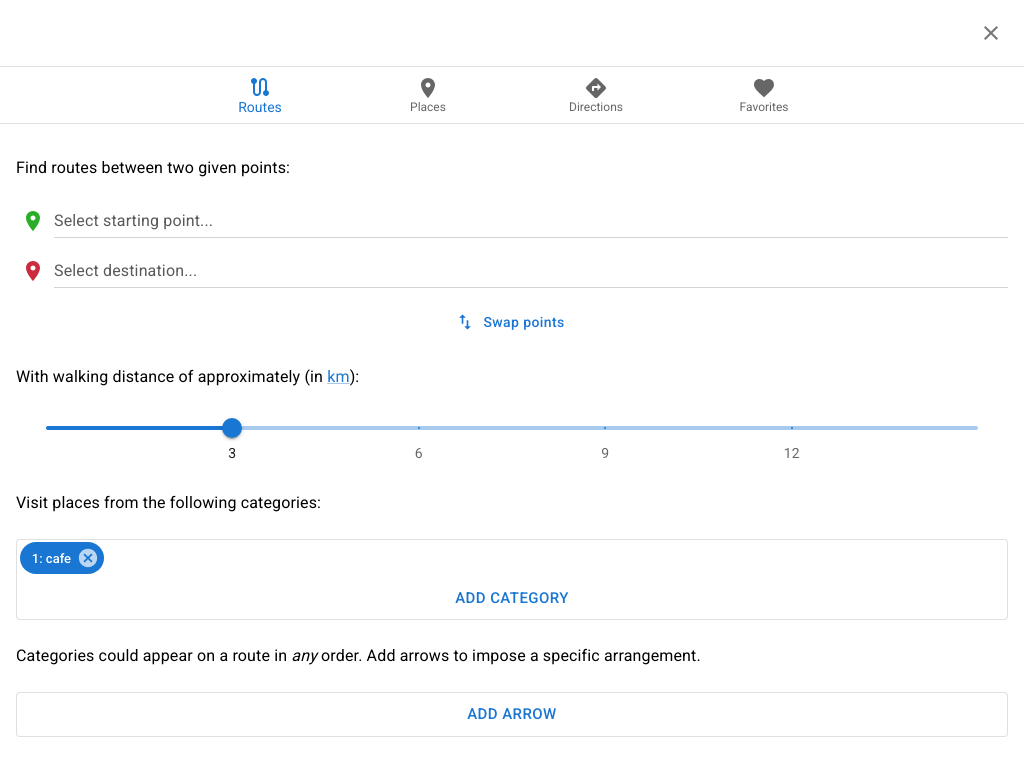
<SearchRoutesPanel /> › categories › should allow the user to modify category filters
Click the button "1: cafe" at (62, 558), box [20,542,104,574]
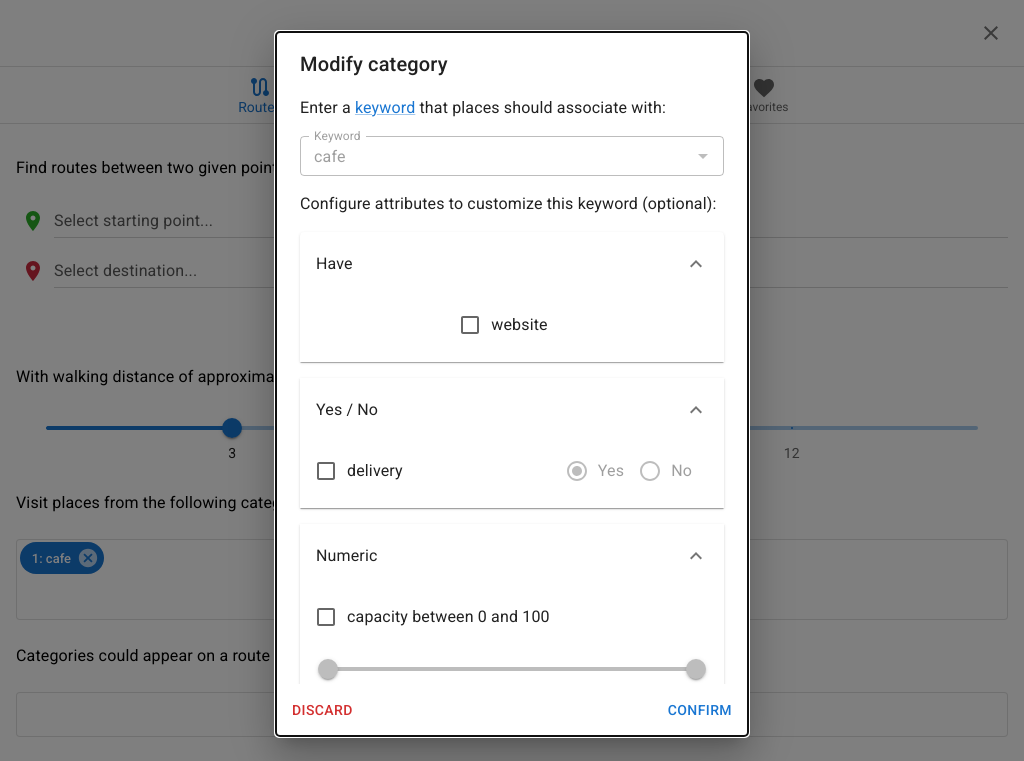
Check: the checkbox labelled "website" is not checked
Click the checkbox labelled "website" at (503, 325), box [458,313,548,337]
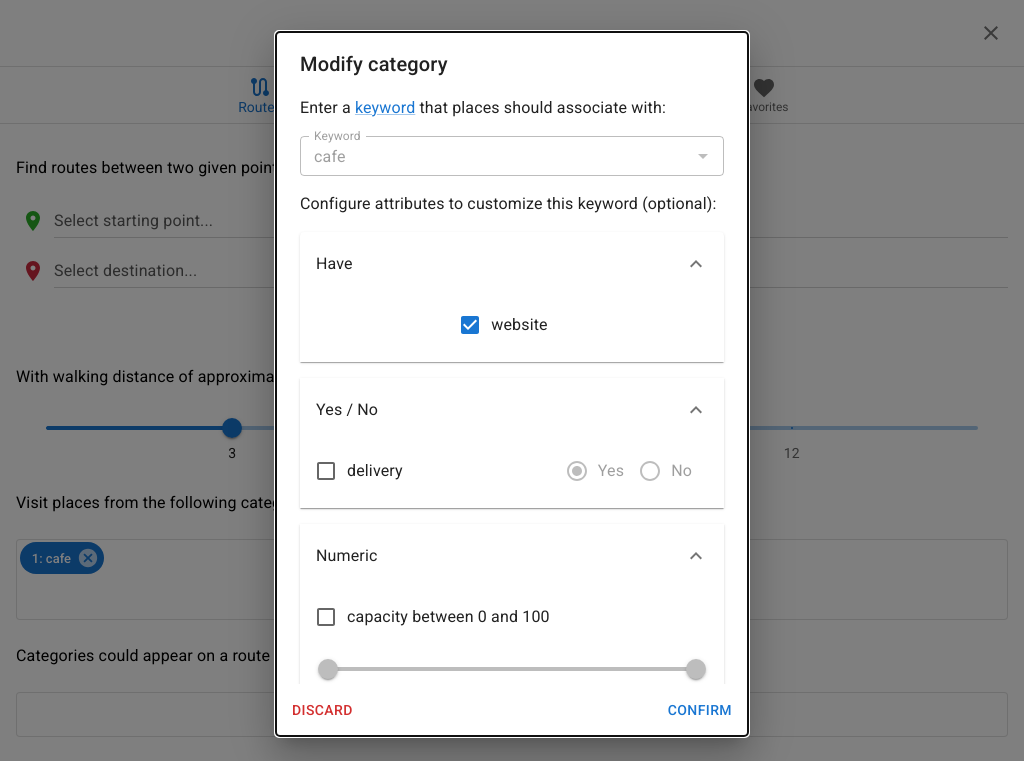
Check: the checkbox labelled "website" is checked, box [458,313,548,337]
Click the button "Confirm" at (700, 710), box [660,692,740,728]
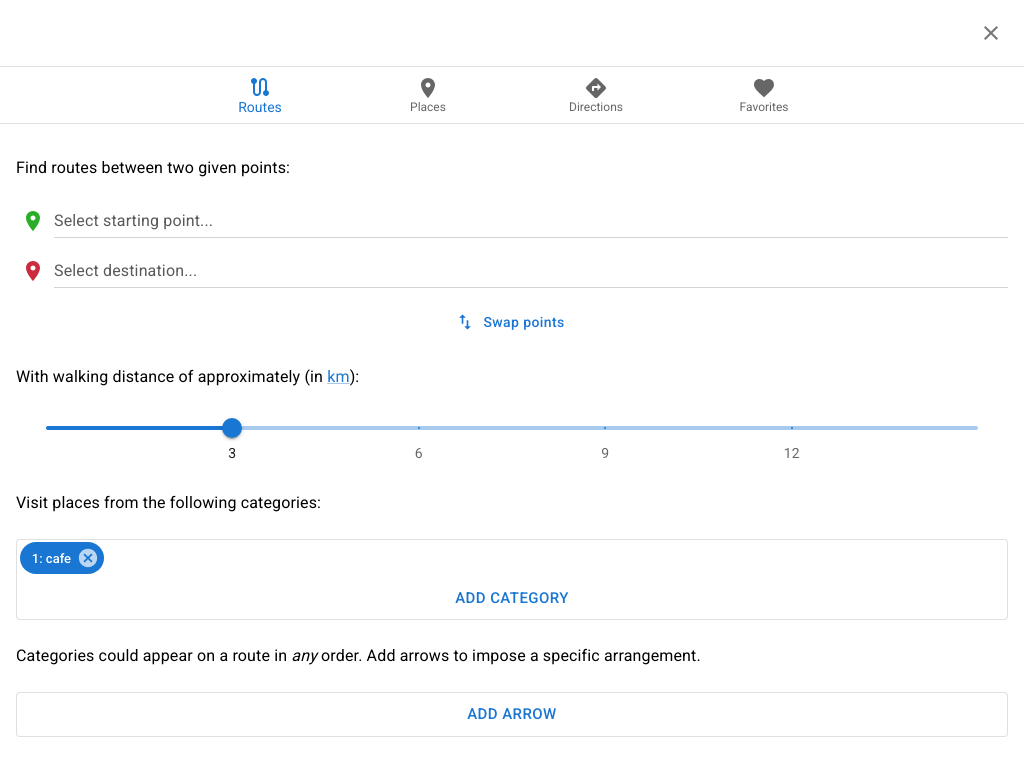
Click the button "1: cafe" at (62, 558), box [20,542,104,574]
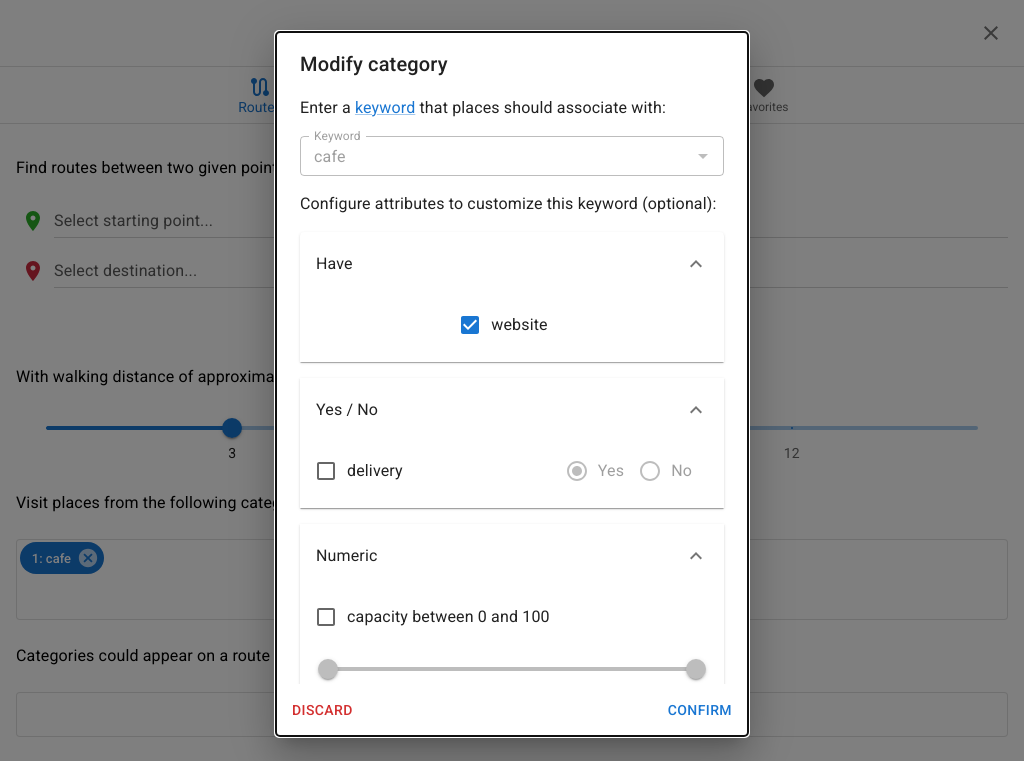
Check: the checkbox labelled "website" is checked, box [458,313,548,337]
